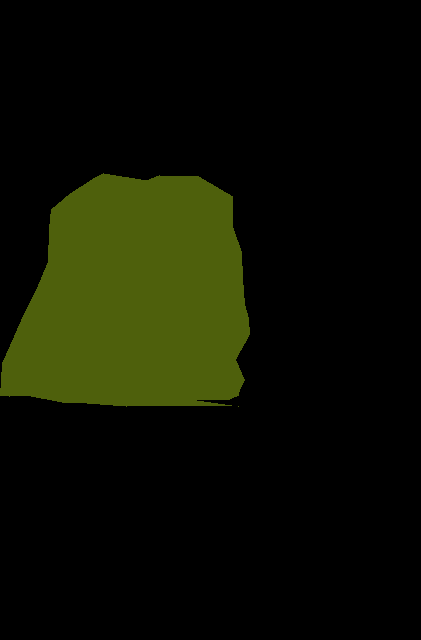Train: (0, 173, 249, 406)
